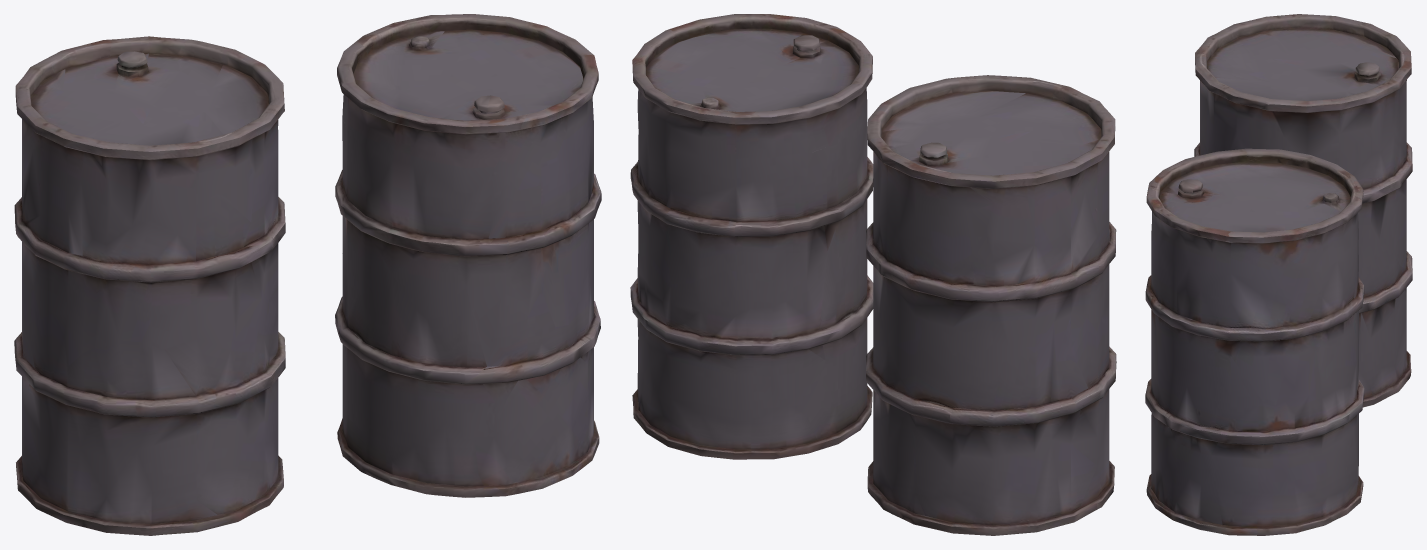
Rendered from decor_barrels_rusty_idle.glb.
3 renders of one model, left to right at view 1: azimuth 30°, elevation 25°; view 2: azimuth 150°, elevation 25°; view 3: azimuth 270°, elevation 25°, orthographic. The views are drawn at different scales.
Parts seen in each view (by area): view 1: tripo_node_8cdba733-baaa-4bcc-b4d6-ff2e3a766f84; view 2: tripo_node_8cdba733-baaa-4bcc-b4d6-ff2e3a766f84; view 3: tripo_node_8cdba733-baaa-4bcc-b4d6-ff2e3a766f84.
Boxes of the visible parts, <box> form: tripo_node_8cdba733-baaa-4bcc-b4d6-ff2e3a766f84: <box>14,14,601,535</box>; tripo_node_8cdba733-baaa-4bcc-b4d6-ff2e3a766f84: <box>630,14,1116,535</box>; tripo_node_8cdba733-baaa-4bcc-b4d6-ff2e3a766f84: <box>1145,14,1412,535</box>.
Bounding box in the file's own units: 1.22 × 0.9 × 0.6749.
1 material, 1 textured.
